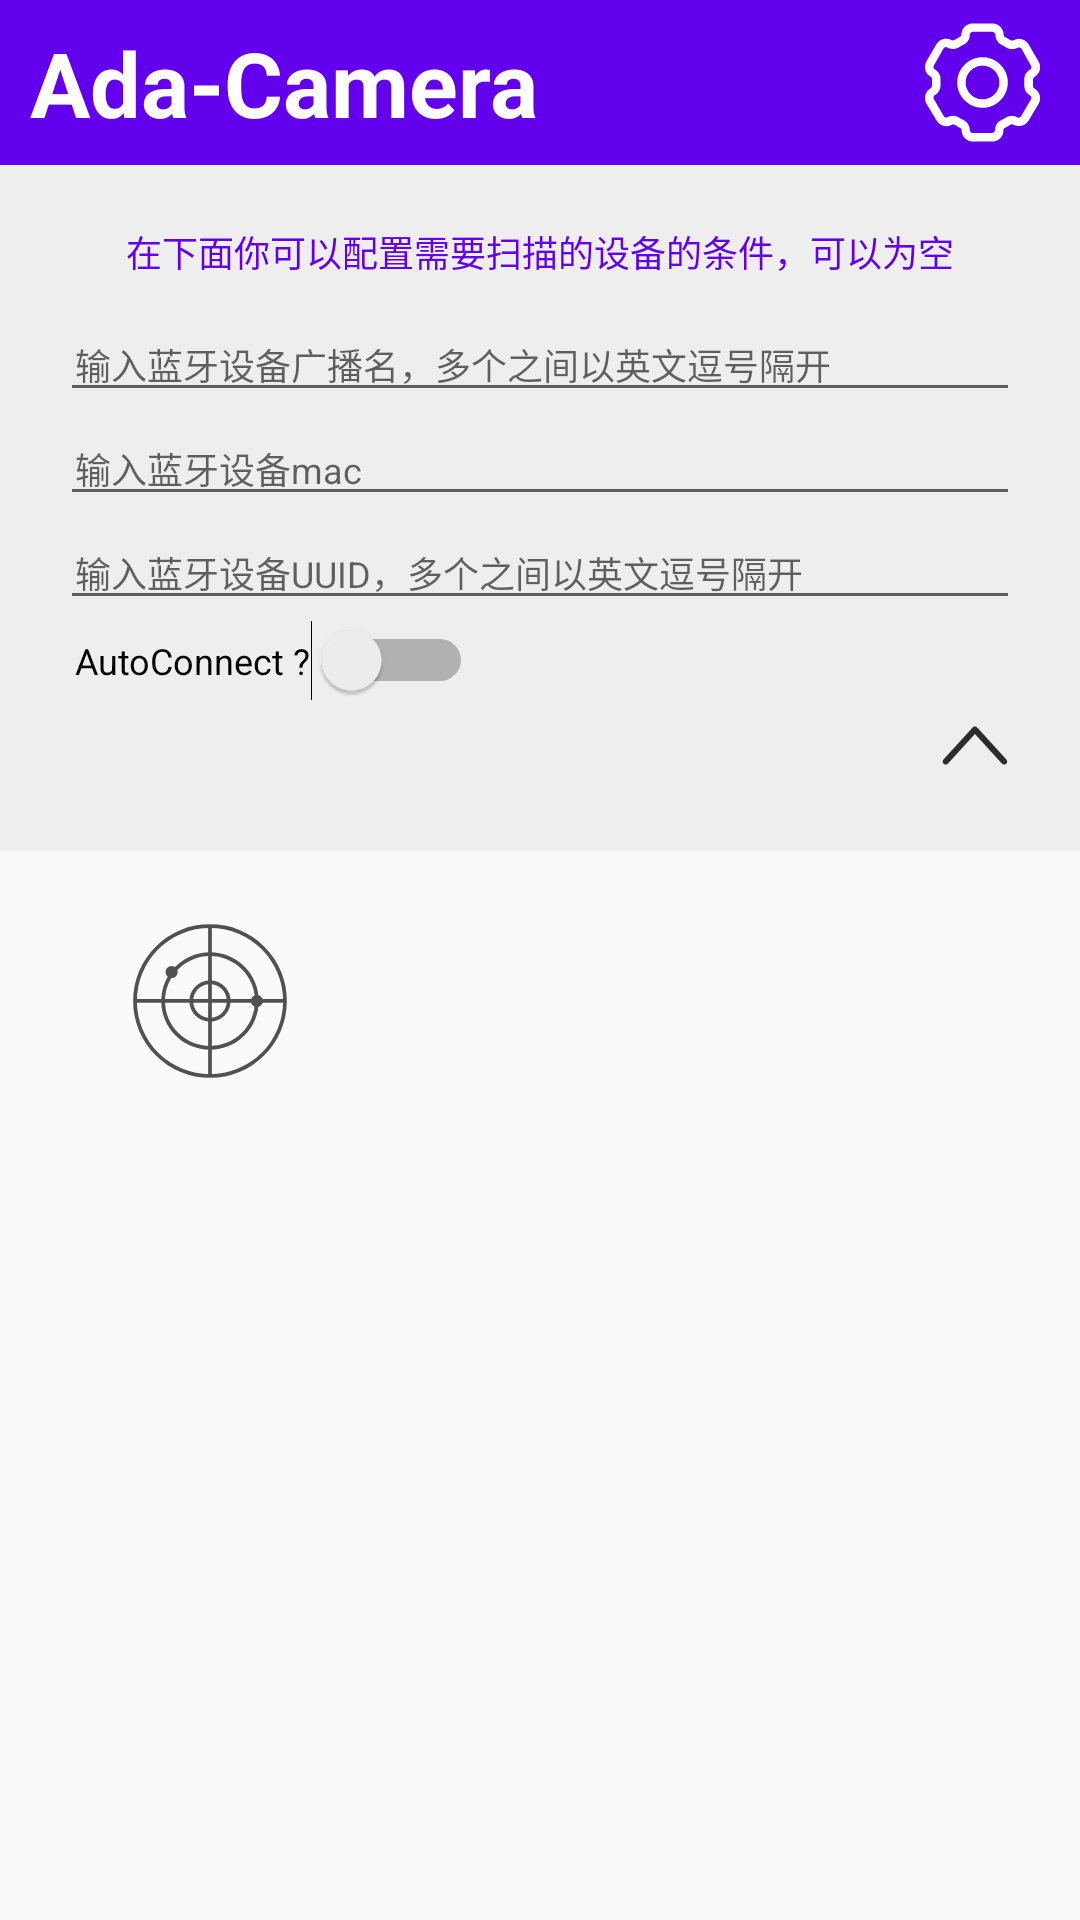

Icons on this 1080x1920 Android screen, each with its box as Rect(x1, y1, x2, y2):
scan: Rect(133, 924, 287, 1078)
settings: Rect(925, 23, 1040, 142)
